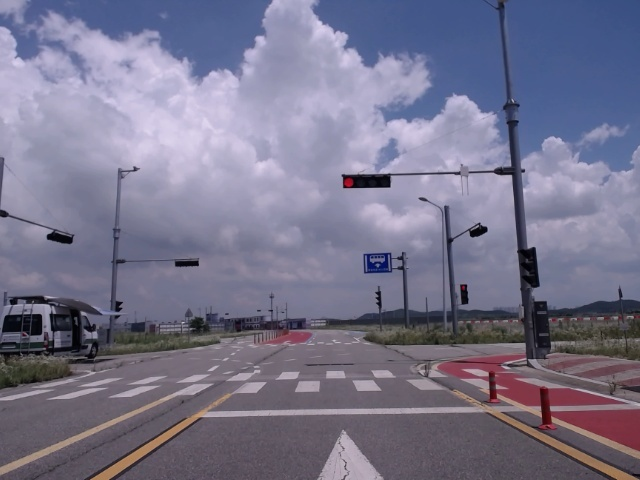red_4: (343, 176, 390, 188)
